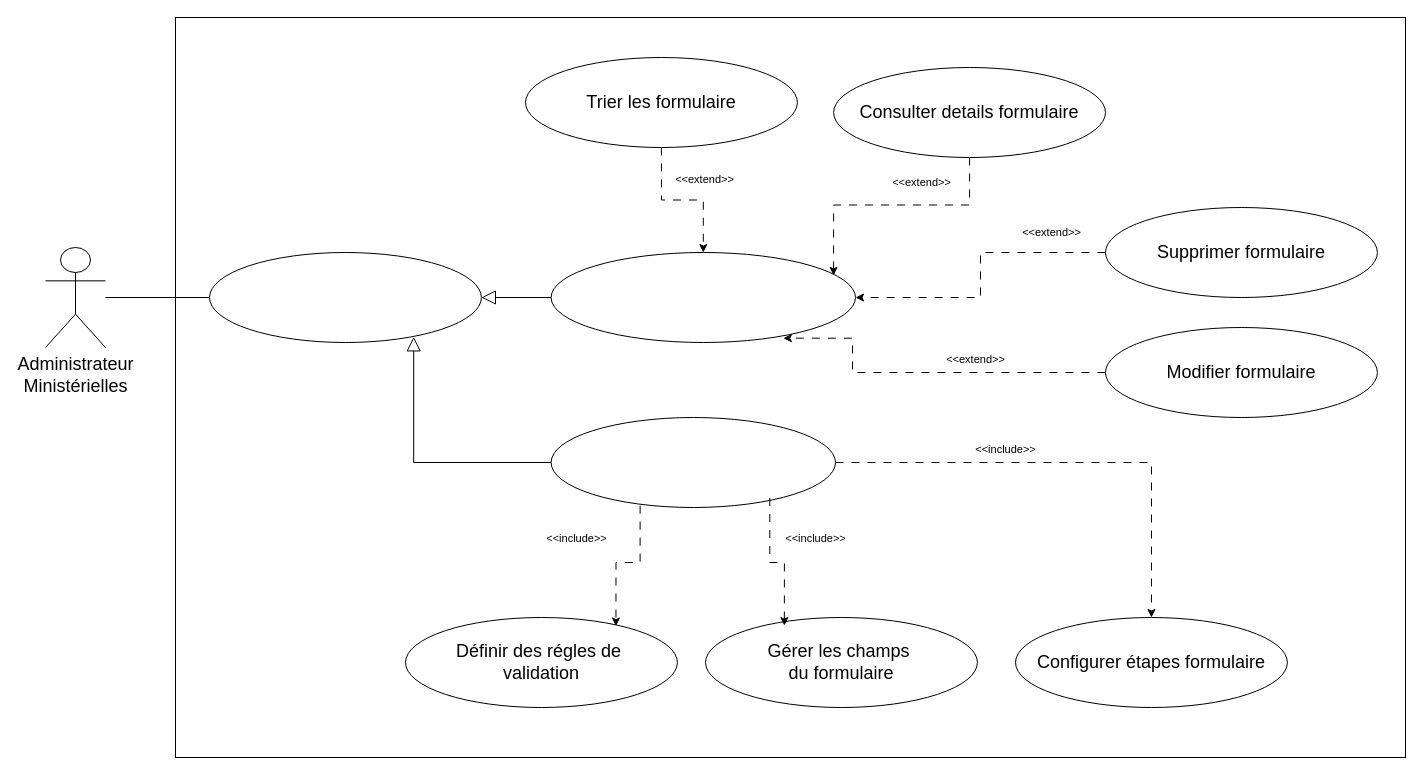
The diagram is 1423 pixels wide and 775 high, and some of its shapes have lost their labels. Each missing label, with the centre of its shape:
"Ajouter un formulaire" goes at pixel 693 462.
"Consulter la liste des formulaires" goes at pixel 703 297.
"Gérer les formulaires dynamiques des services" goes at pixel 344 297.
